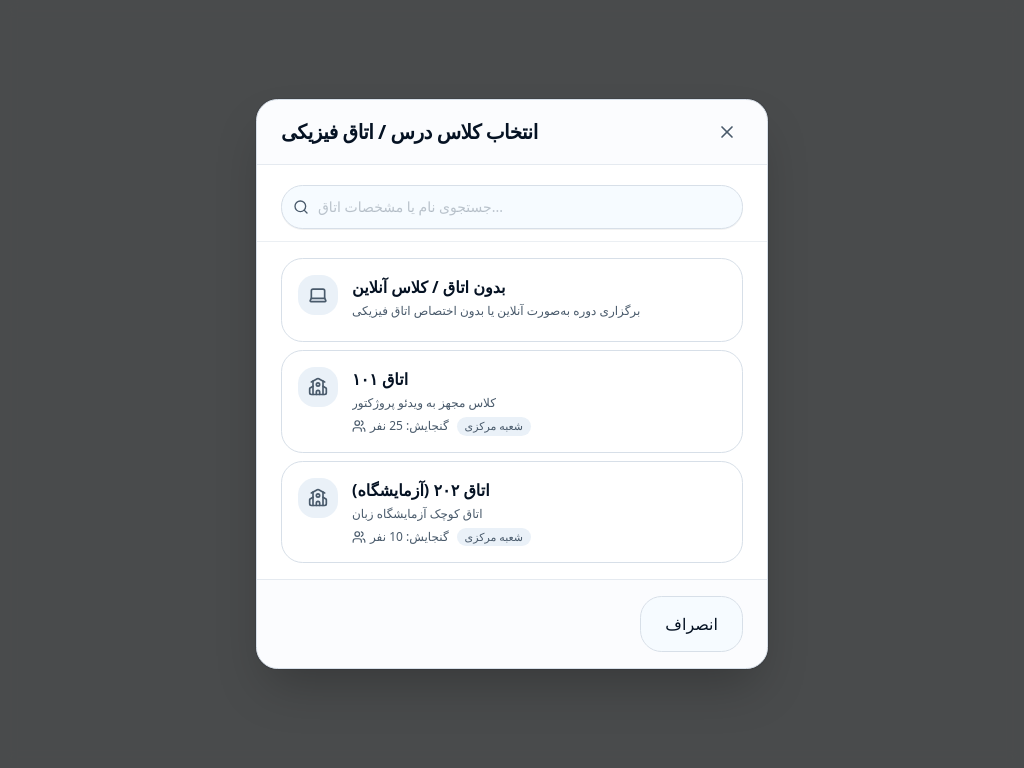
Scenario: ClassroomPickerModal › filters classrooms by search query
Type "آزمایشگاه" into the field with placeholder "جستجوی نام یا مشخصات اتاق..." at (512, 207), box [281,185,743,229]
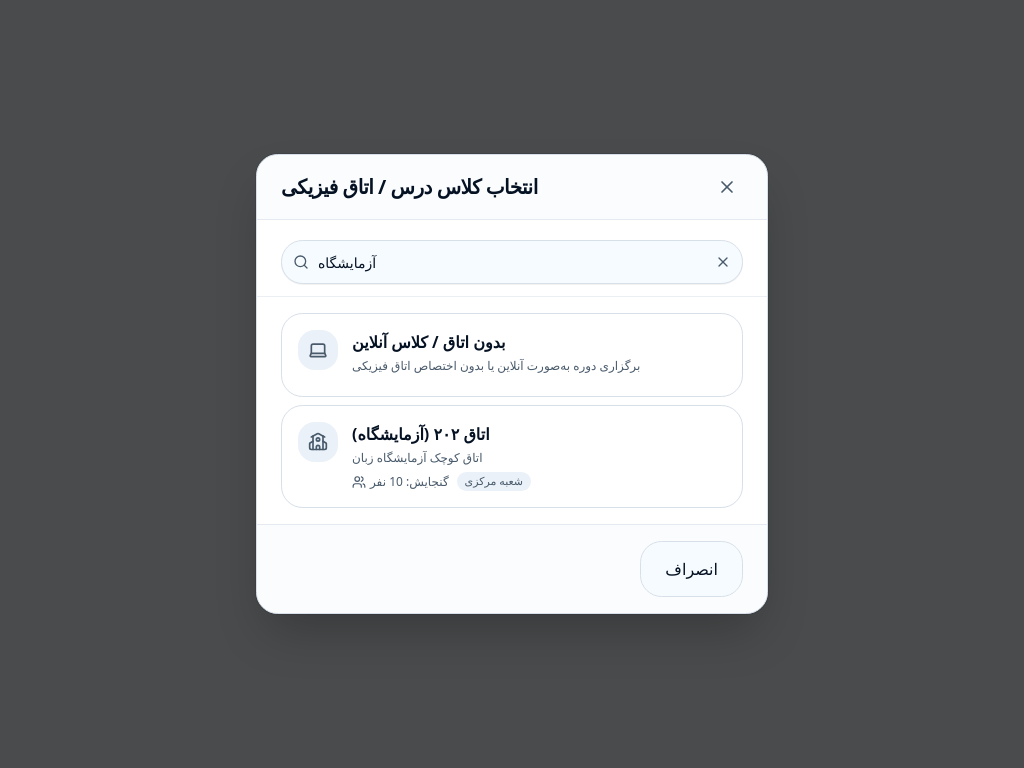
Expected: the text "اتاق ۲۰۲ (آزمایشگاه)" is shown, [352,422,490,446]
Result: the button "اتاق ۱۰۱" is gone
